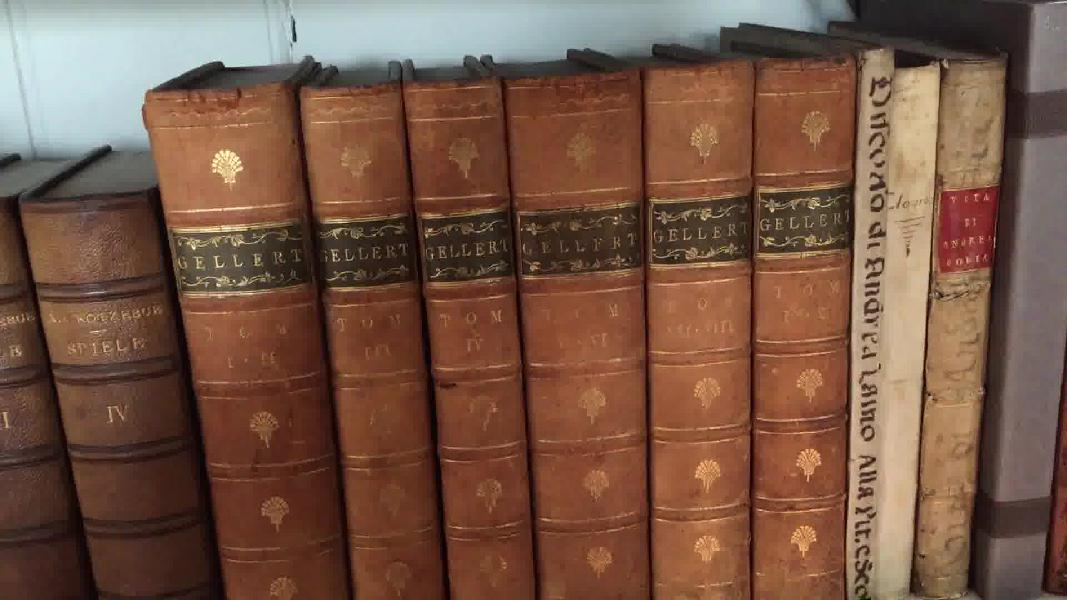Aa6-18_23: (127, 47, 858, 600)
Aa6-24: (843, 9, 898, 600)
Aa6-25: (877, 27, 942, 600)
Aa6-26: (917, 20, 1015, 600)
Aa6-27: (998, 1, 1067, 600)
